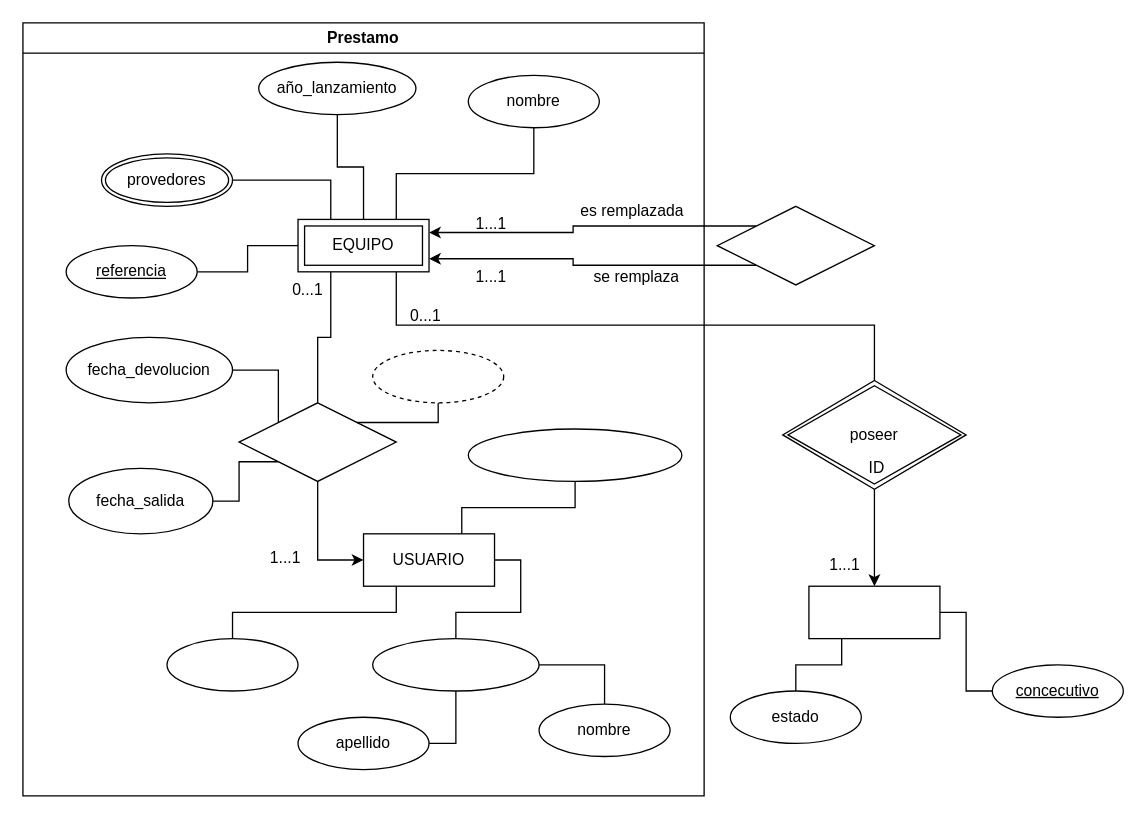
This 1146x819 diagram has some shape labels left out. The shapes that lost their labels are listed below. From the top down, each one's centre as x and y in pixels, then its label:
At (795,245): "remplazar".
At (437,376): "mora".
At (317,441): "prestar".
At (574,454): "codigo_institucional".
At (874,612): "ALMACEN".
At (232,664): "dependencia".
At (455,664): "nombre_completo".
